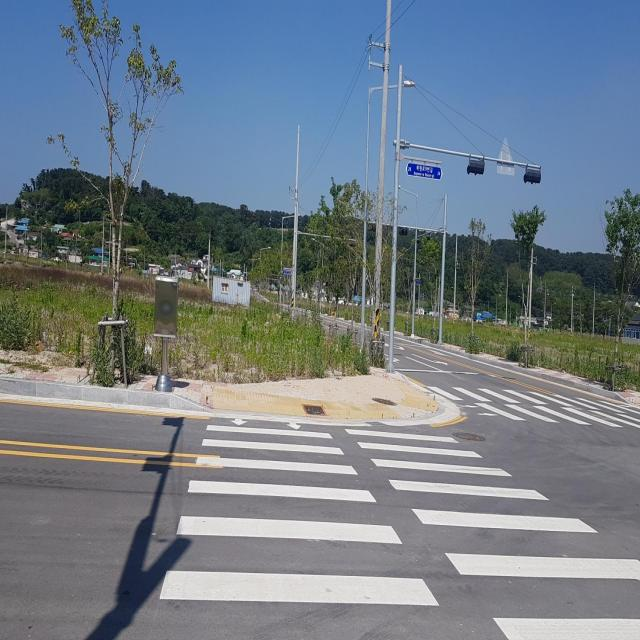횡단보도: (159, 418, 640, 640), (423, 381, 640, 430)
